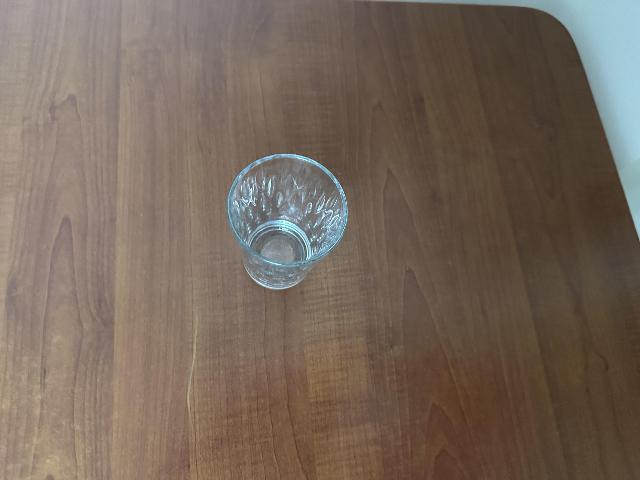Cam: (225, 151, 349, 293)
